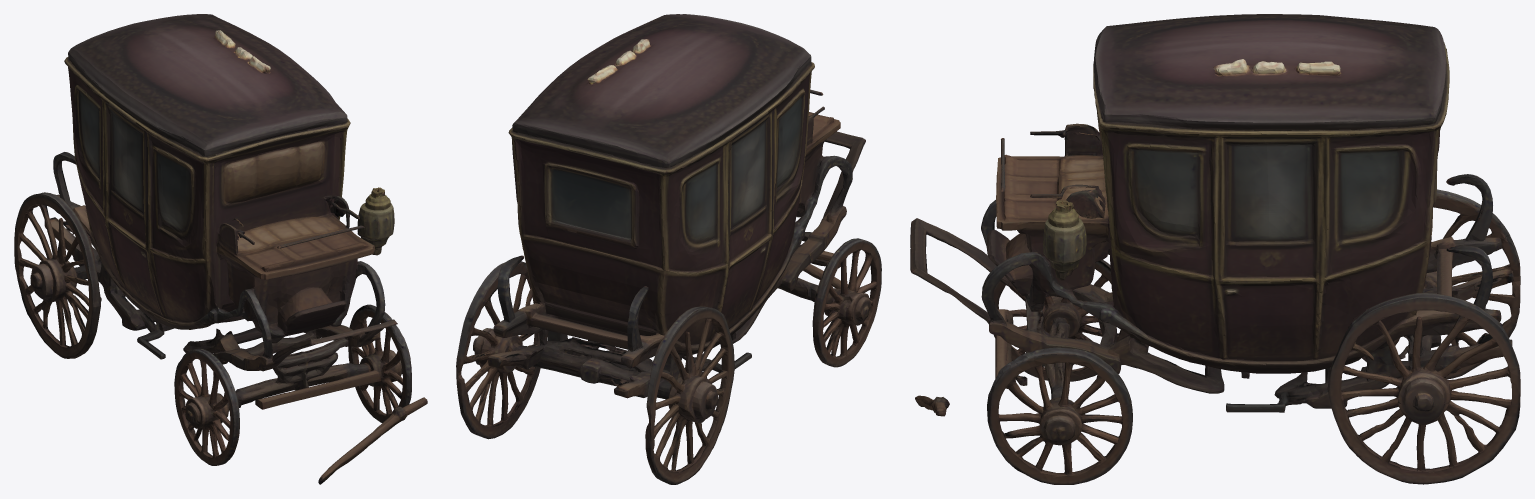
The model's file is carriage-trellis.glb.
3 views of the same model, side by side, from view 1: azimuth 30°, elevation 25°; view 2: azimuth 150°, elevation 25°; view 3: azimuth 270°, elevation 25° (orthographic). The views are drawn at different scales.
Visible parts, largest first — view 1: geometry_0; view 2: geometry_0; view 3: geometry_0.
Part boxes in pixels (x1,y1,x2,y2): geometry_0: (14,14,427,484); geometry_0: (456,14,881,484); geometry_0: (910,14,1520,484).
Size of the model in its own units: 0.5115 by 0.7049 by 0.9903.
Materials: 1 (1 with a texture image).
